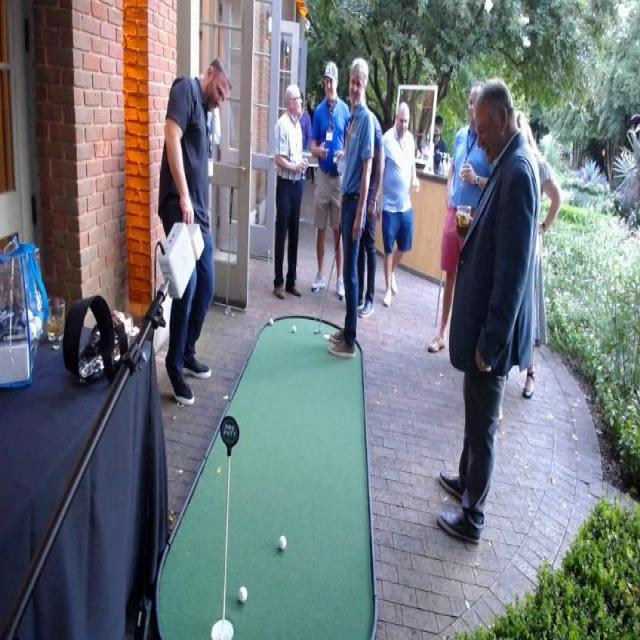GolfBall: (234, 581, 252, 608), (275, 528, 290, 554), (290, 320, 298, 335), (267, 314, 276, 326)
